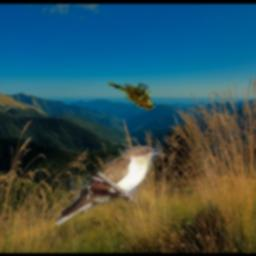Cuckoo: (55, 147, 163, 226), (107, 83, 155, 111)
